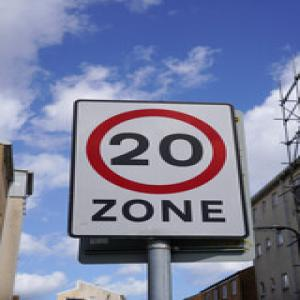speed limit 20: (73, 101, 249, 238)
